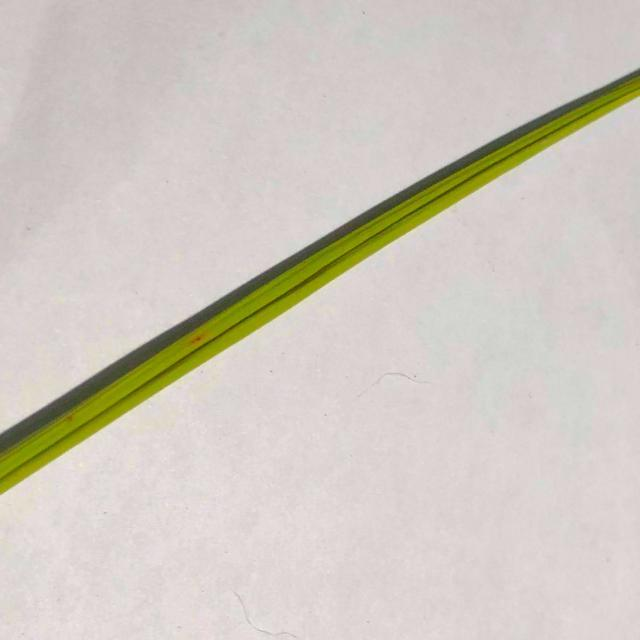brownspots: (178, 326, 212, 362)
